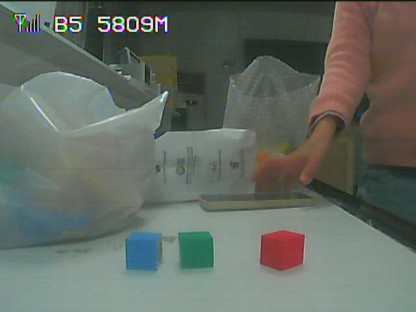b: (127, 235, 157, 269)
g: (178, 234, 212, 264)
r: (262, 230, 302, 266)
